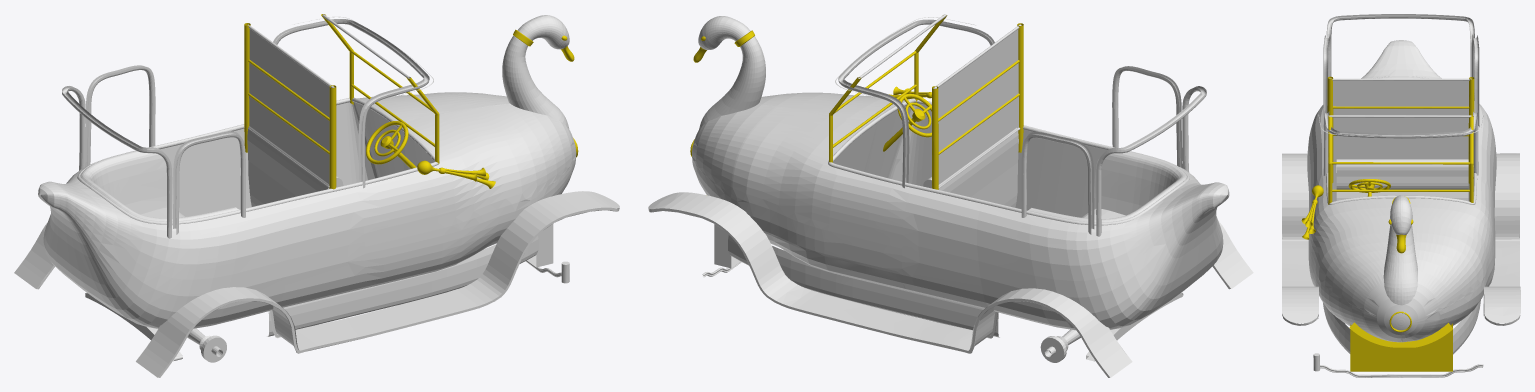
Rendered from SwanCar9.fbx.
3 renders of one model, left to right at view 1: azimuth 30°, elevation 25°; view 2: azimuth 150°, elevation 25°; view 3: azimuth 270°, elevation 25°, orthographic. The views are drawn at different scales.
Visible parts, largest first — view 1: WHITE_089; view 2: WHITE_089; view 3: WHITE_089.
Boxes of the visible parts, x1,y1,x2,y2 form: WHITE_089: (14, 14, 619, 377); WHITE_089: (648, 14, 1253, 377); WHITE_089: (1282, 14, 1520, 377).
Size of the model in its own units: 0.0913 by 0.0414 by 0.0428.
